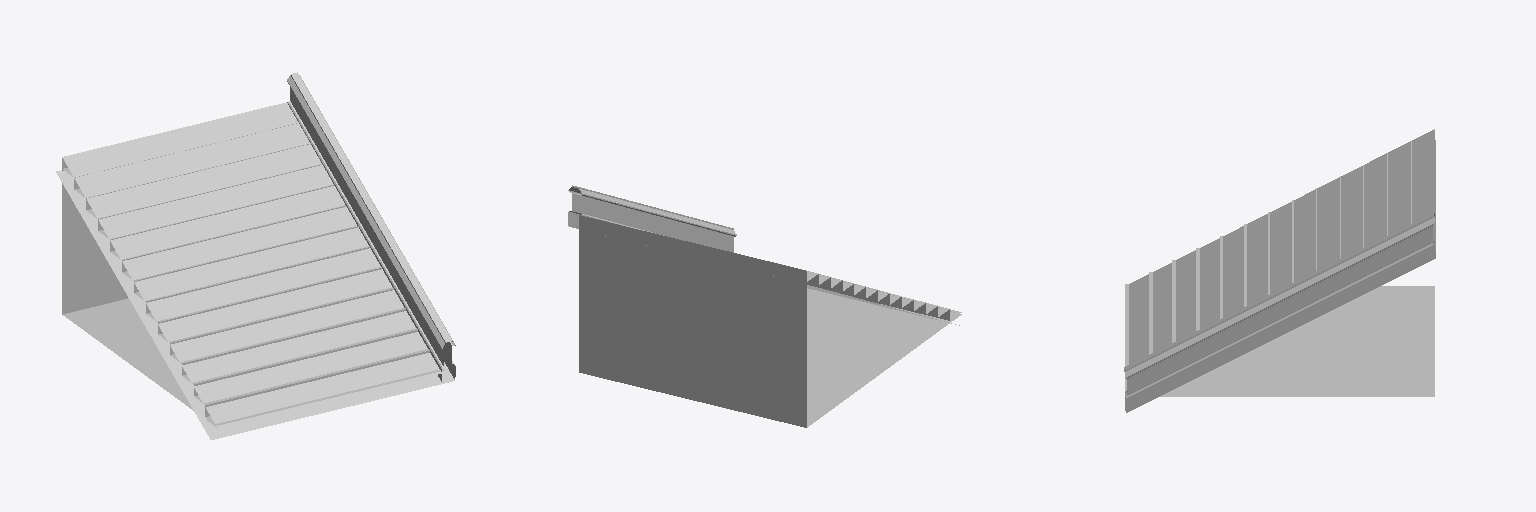
The model's file is stairs mod.obj.
3 views of the same model, side by side, from view 1: azimuth 30°, elevation 25°; view 2: azimuth 150°, elevation 25°; view 3: azimuth 270°, elevation 25° (orthographic).
Visible parts, largest first — view 1: stair_mod group26 stairs_col, side stair_mod group26, stair_mod group26 stairs; view 2: stair_mod group26 stairs_col, side stair_mod group26, stair_mod group26 stairs; view 3: stair_mod group26 stairs_col, side stair_mod group26, stair_mod group26 stairs.
Boxes of the visible parts, x1=… form: stair_mod group26 stairs_col: x1=62, y1=102, x2=444, y2=427; side stair_mod group26: x1=56, y1=72, x2=455, y2=439; stair_mod group26 stairs: x1=62, y1=123, x2=444, y2=425; stair_mod group26 stairs_col: x1=579, y1=215, x2=961, y2=427; side stair_mod group26: x1=568, y1=185, x2=959, y2=325; stair_mod group26 stairs: x1=579, y1=215, x2=961, y2=320; stair_mod group26 stairs_col: x1=1125, y1=129, x2=1434, y2=396; side stair_mod group26: x1=1124, y1=140, x2=1435, y2=412; stair_mod group26 stairs: x1=1125, y1=141, x2=1411, y2=394.
Bounding box in the file's own units: 407 × 312 × 450.